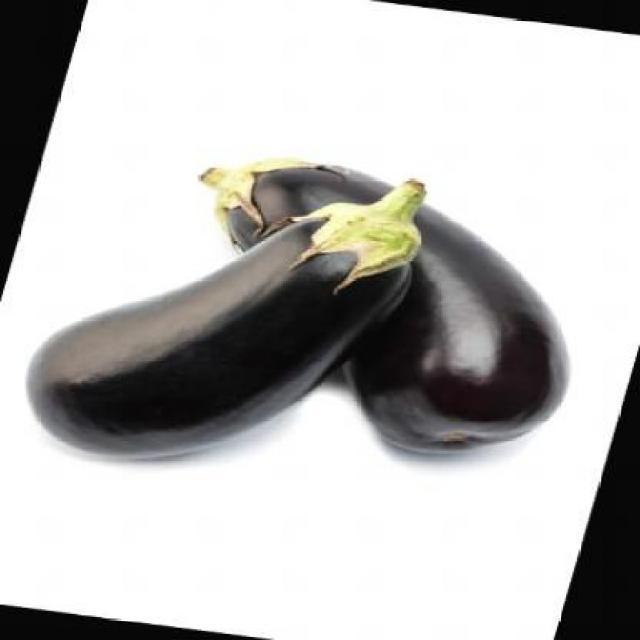eggplant: (132, 148, 620, 468), (5, 136, 442, 492)
